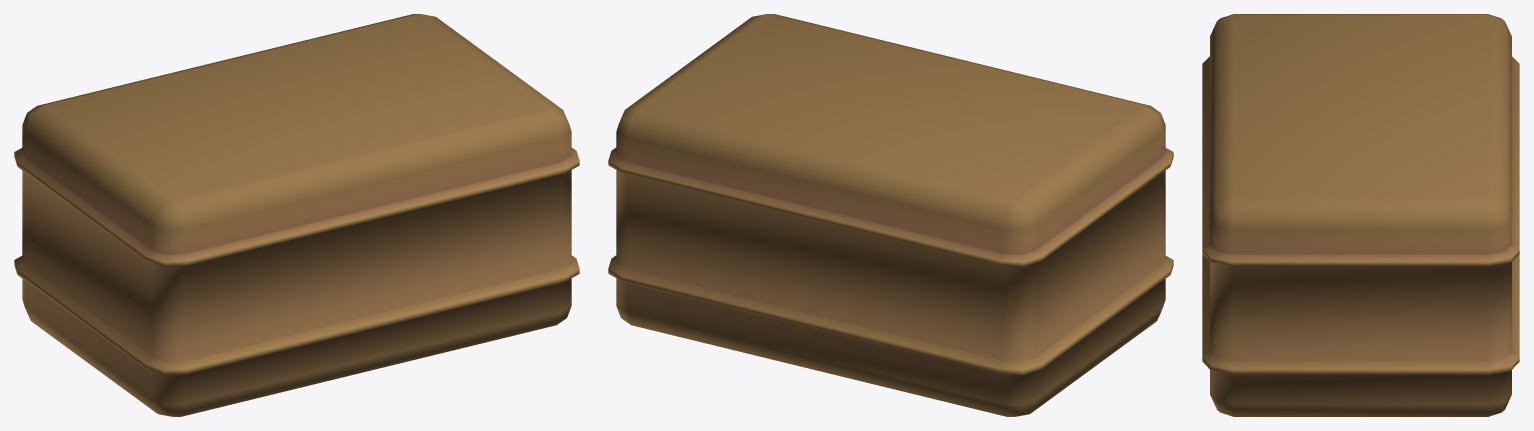
Rendered from furnishings-outdoor-squarehaybale_v1.glb.
The picture shows the model from 3 angles, left to right: view 1: azimuth 30°, elevation 25°; view 2: azimuth 150°, elevation 25°; view 3: azimuth 270°, elevation 25°; orthographic projection.
Visible parts, largest first — view 1: SquareHayBale.001; view 2: SquareHayBale.001; view 3: SquareHayBale.001.
Boxes of the visible parts, x1=… form: SquareHayBale.001: x1=14, y1=14, x2=579, y2=416; SquareHayBale.001: x1=608, y1=14, x2=1173, y2=416; SquareHayBale.001: x1=1202, y1=14, x2=1519, y2=416.
Bounding box in the file's own units: 0.9901 × 0.4797 × 0.6328.
